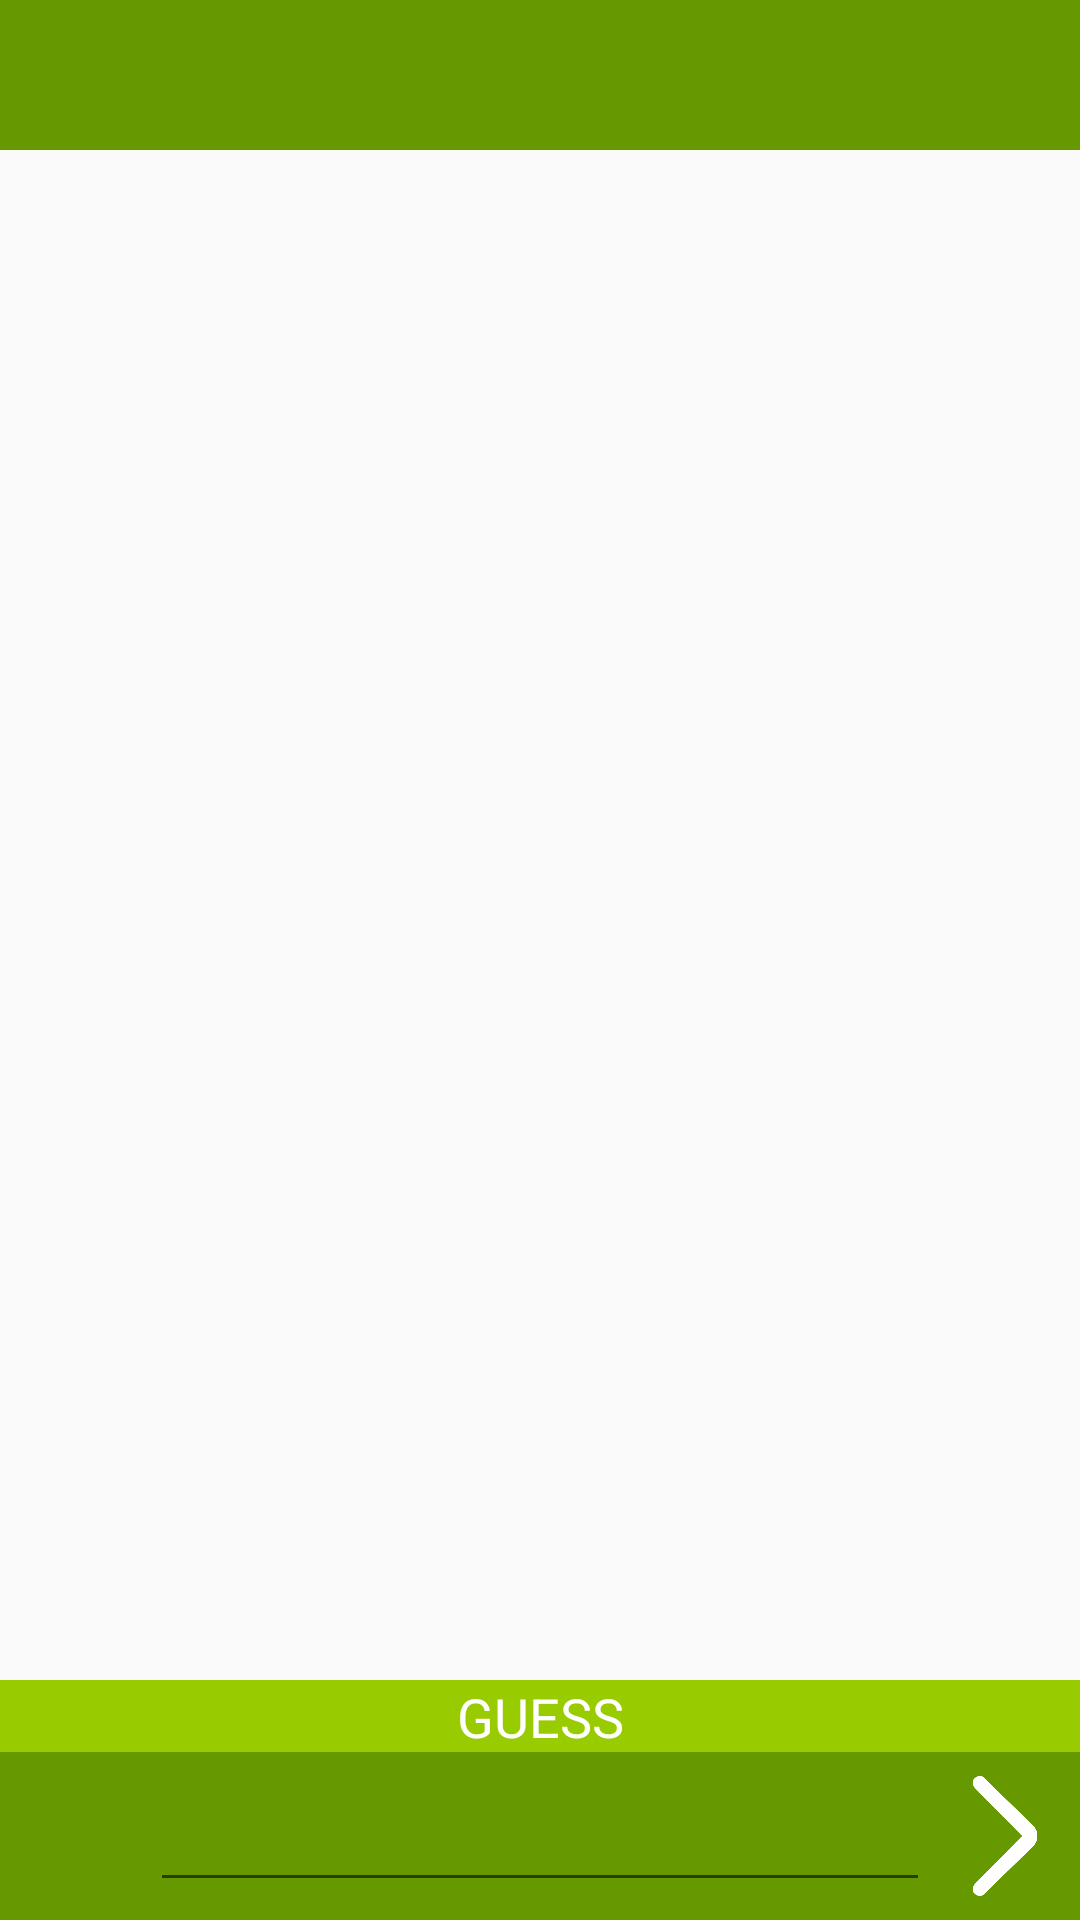

Where to tap for icons on this 1080px x 1920px app screen, as (x,y):
next: (1005,1836)
